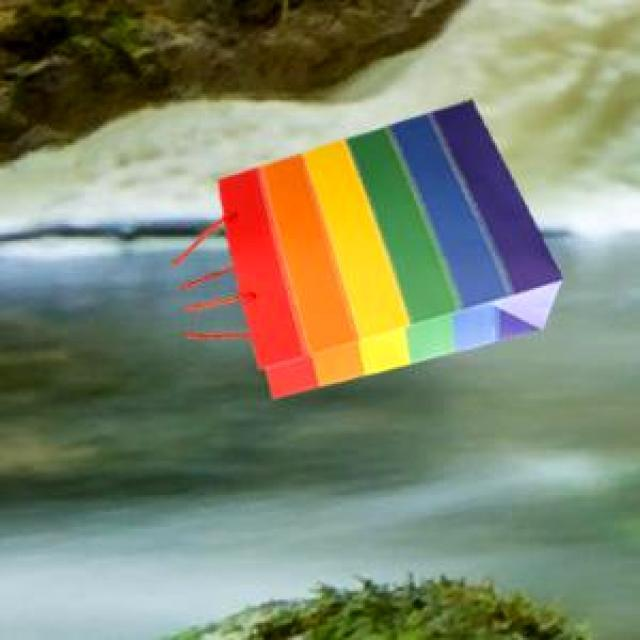Paper_Bag: (182, 97, 558, 394)
